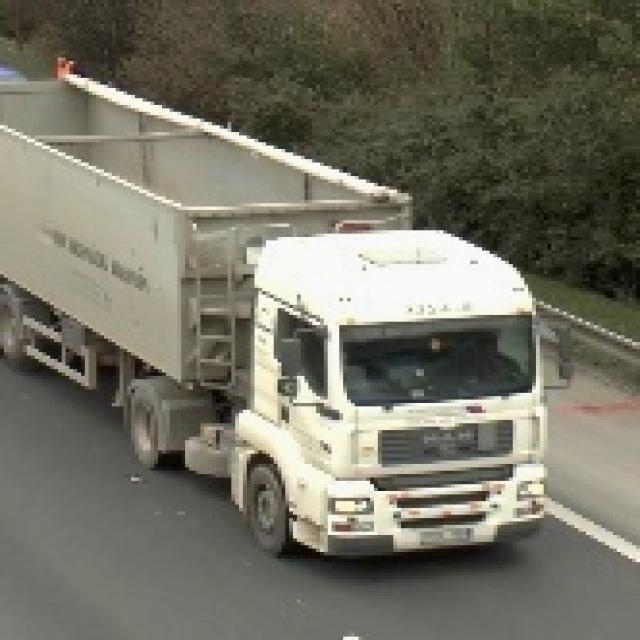TRUCK: (0, 100, 545, 564)
